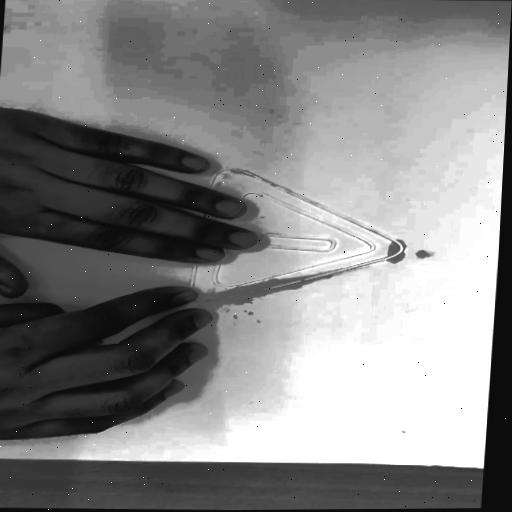signboard: (17, 151, 422, 318)
